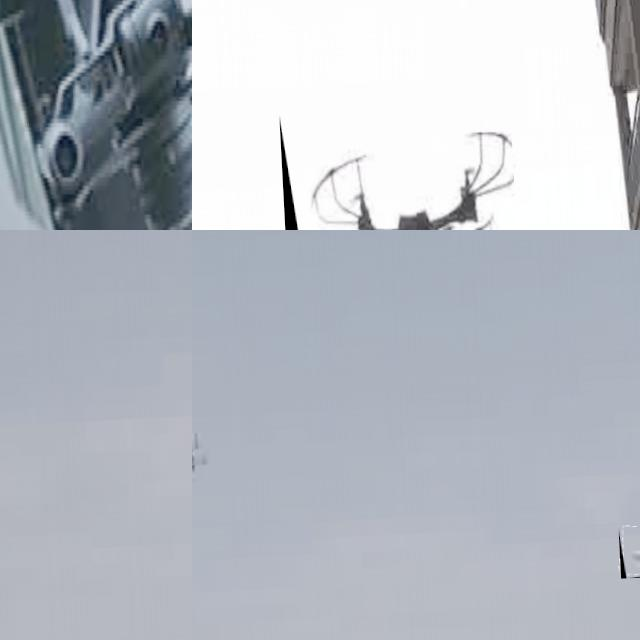drone: (0, 0, 192, 230), (279, 102, 523, 230), (618, 525, 640, 579)
